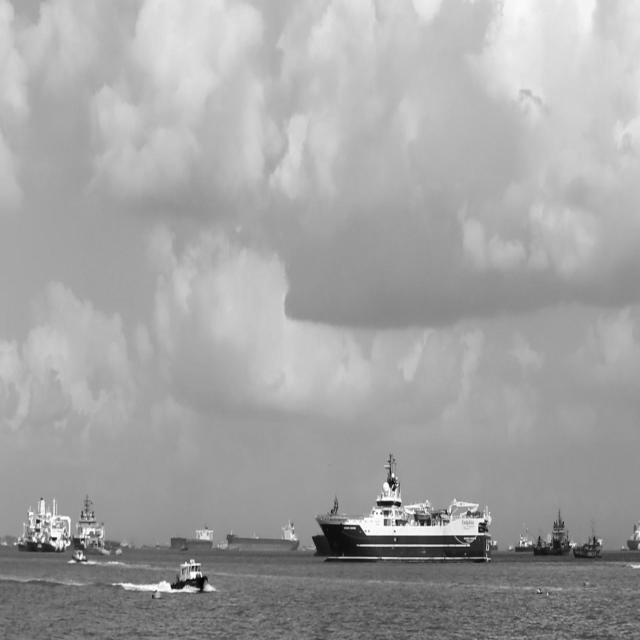buoy: (150, 584, 168, 604), (580, 572, 596, 590), (531, 584, 547, 598)
ship: (316, 448, 504, 573), (15, 490, 74, 556), (76, 492, 127, 560), (225, 518, 305, 560), (528, 506, 578, 564), (162, 521, 220, 556), (569, 519, 609, 566), (172, 550, 212, 595), (514, 520, 544, 560), (66, 544, 92, 572)
